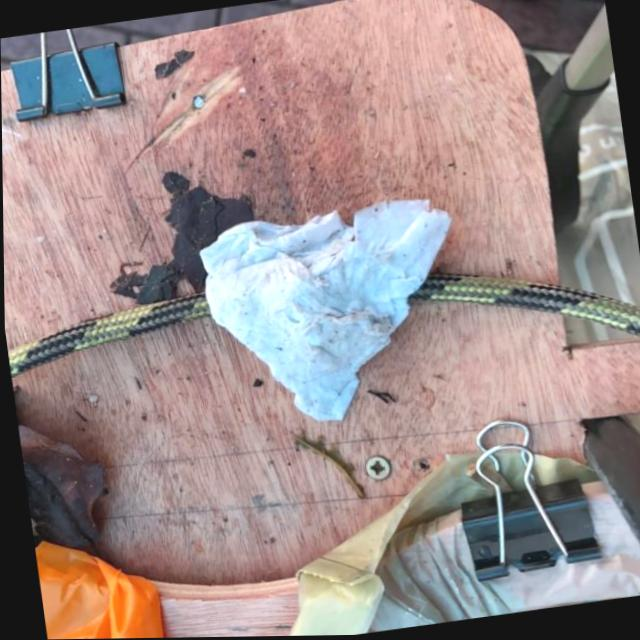Paper: (190, 188, 476, 439)
